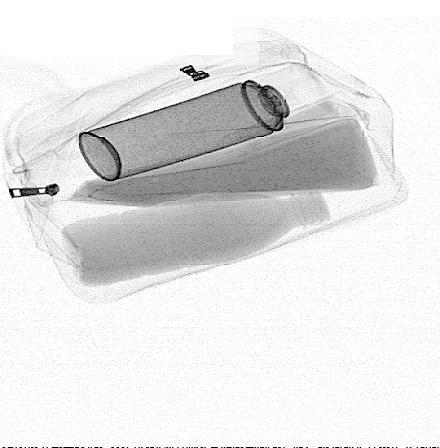Sprayer: (77, 63, 334, 182)
